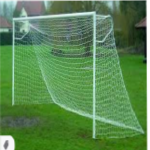goals: (11, 9, 144, 140)
